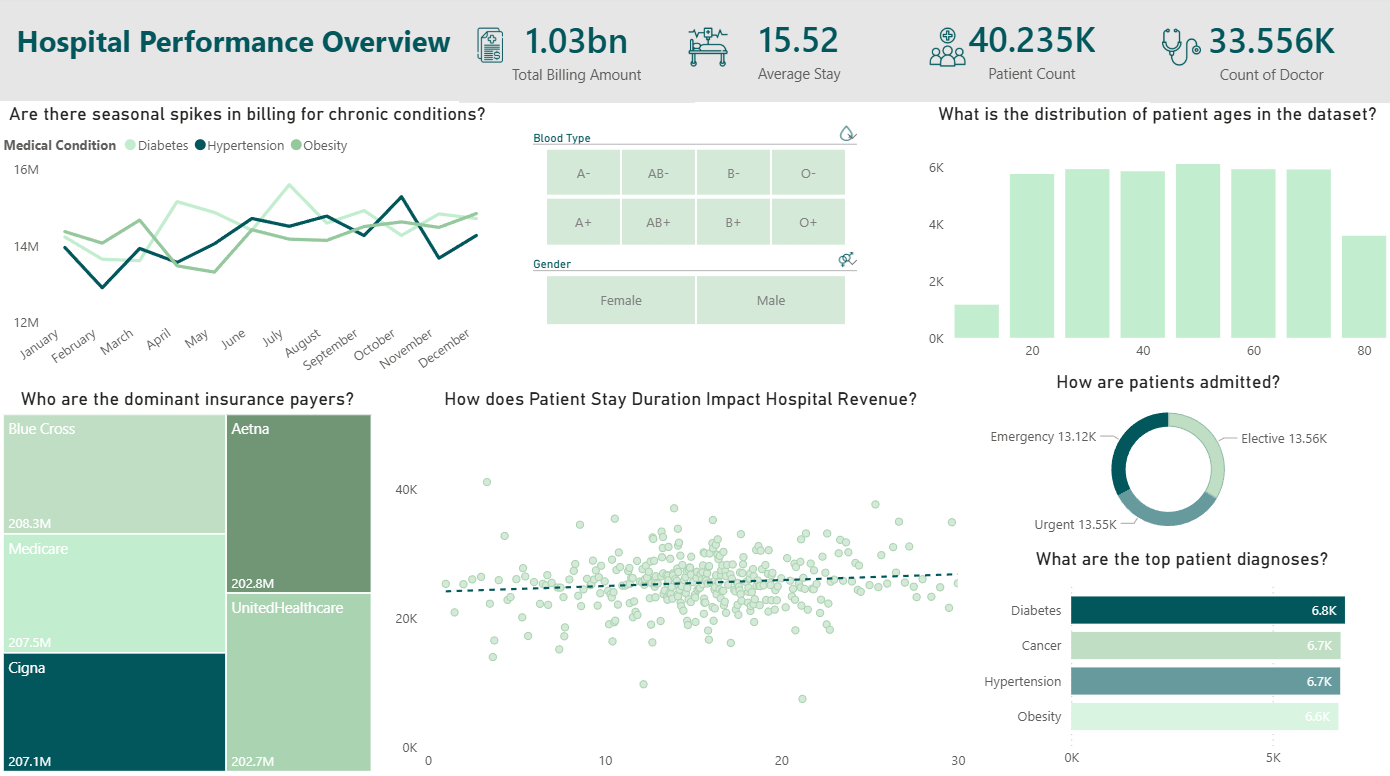

The dashboard page shown, as its layout file describes it:
{"tool":"powerbi","page":{"name":"Executive Dashboard","canvas":[1280,720],"ordinal":0},"visuals":[{"type":"textbox","box":[0,0,432.5,96.7],"z":0},{"type":"cardVisual","fields":{"Data":["healthcare_dataset.Billing Amount"]},"box":[423.3,0,216.7,98.3],"z":1000},{"type":"cardVisual","fields":{"Data":["healthcare_dataset.Name"]},"box":[835.6,0,227.1,97],"z":2000},{"type":"lineChart","title":"Are there seasonal spikes in billing for chronic conditions?","fields":{"Category":["healthcare_dataset.Discharge Date.Variation.Date Hierarchy.Year","healthcare_dataset.Discharge Date.Variation.Date Hierarchy.Quarter","healthcare_dataset.Discharge Date.Variation.Date Hierarchy.Month","healthcare_dataset.Discharge Date.Variation.Date Hierarchy.Day"],"Y":["healthcare_dataset.Billing Amount"],"Series":["healthcare_dataset.Medical Condition"]},"box":[0,98,458.1,269.1],"z":3000},{"type":"scatterChart","title":"How does Patient Stay Duration Impact Hospital Revenue?","fields":{"Y":["healthcare_dataset.Billing Amount"],"X":["healthcare_dataset.Hospital Avg Stay"]},"box":[360.1,360.1,533.1,360.1],"z":4000},{"type":"treemap","title":"Who are the dominant insurance payers?","fields":{"Group":["healthcare_dataset.Insurance Provider"],"Values":["healthcare_dataset.Billing Amount"]},"box":[0,360.1,348.1,357.1],"z":5000},{"type":"clusteredBarChart","title":"What are the top patient diagnoses?","fields":{"Category":["healthcare_dataset.Medical Condition"],"Y":["healthcare_dataset.Name"]},"box":[893.2,506.1,387.1,211.1],"z":6000},{"type":"clusteredColumnChart","title":"What is the distribution of patient ages in the dataset?","fields":{"Y":["healthcare_dataset.Age"],"Category":["healthcare_dataset.Age (bins)"]},"box":[849.2,98,430.1,246.1],"z":7000},{"type":"cardVisual","fields":{"Data":["healthcare_dataset.Length of Stay"]},"box":[629,0,212.1,97],"z":8000},{"type":"donutChart","title":"How are patients admitted?","fields":{"Category":["healthcare_dataset.Admission Type"],"Y":["healthcare_dataset.Admission Type"]},"box":[881.2,344.1,386.1,162],"z":9000},{"type":"slicer","fields":{"Values":["healthcare_dataset.Gender"]},"box":[478.2,235.2,323.1,73],"z":10000},{"type":"slicer","fields":{"Values":["healthcare_dataset.Blood Type"]},"box":[478.2,119.1,323.1,116],"z":11000},{"type":"cardVisual","fields":{"Data":["healthcare_dataset.Doctor"]},"box":[1056.9,1,223.1,97],"z":12000},{"type":"image","box":[823.9,29,94,36],"z":13000},{"type":"image","box":[1056.7,29.2,60,35.8],"z":14000},{"type":"image","box":[618.3,29.2,66.7,35.8],"z":15000},{"type":"image","box":[425,29.2,53.3,31.7],"z":16000},{"type":"image","box":[771.1,118.9,14.7,14.2],"z":17000},{"type":"image","box":[771.1,235.3,14.2,13.7],"z":18000}]}

Visuals, with their boxes in screenshot pixels (x1, y1, x2, y2), scaled from the page's 1280x720 canvas onto the 1390x776 screenshot:
textbox: left=0, top=0, right=470, bottom=104
cardVisual - healthcare_dataset.Billing Amount: left=460, top=0, right=695, bottom=106
cardVisual - healthcare_dataset.Name: left=907, top=0, right=1154, bottom=105
"Are there seasonal spikes in billing for chronic conditions?" lineChart: left=0, top=106, right=497, bottom=396
"How does Patient Stay Duration Impact Hospital Revenue?" scatterChart: left=391, top=388, right=970, bottom=775
"Who are the dominant insurance payers?" treemap: left=0, top=388, right=378, bottom=773
"What are the top patient diagnoses?" clusteredBarChart: left=970, top=545, right=1389, bottom=773
"What is the distribution of patient ages in the dataset?" clusteredColumnChart: left=922, top=106, right=1389, bottom=371
cardVisual - healthcare_dataset.Length of Stay: left=683, top=0, right=913, bottom=105
"How are patients admitted?" donutChart: left=957, top=371, right=1376, bottom=545
slicer - healthcare_dataset.Gender: left=519, top=253, right=870, bottom=332
slicer - healthcare_dataset.Blood Type: left=519, top=128, right=870, bottom=253
cardVisual - healthcare_dataset.Doctor: left=1148, top=1, right=1389, bottom=106
image: left=895, top=31, right=997, bottom=70
image: left=1148, top=31, right=1213, bottom=70
image: left=671, top=31, right=744, bottom=70
image: left=462, top=31, right=519, bottom=66
image: left=837, top=128, right=853, bottom=143
image: left=837, top=254, right=853, bottom=268
